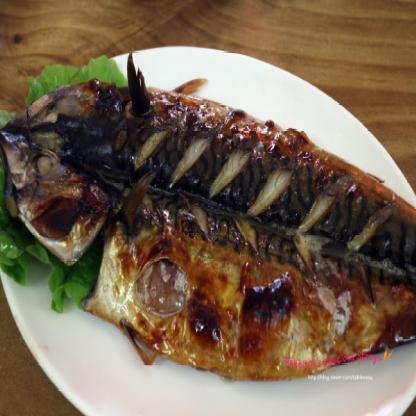Peixe: (0, 69, 416, 380)
